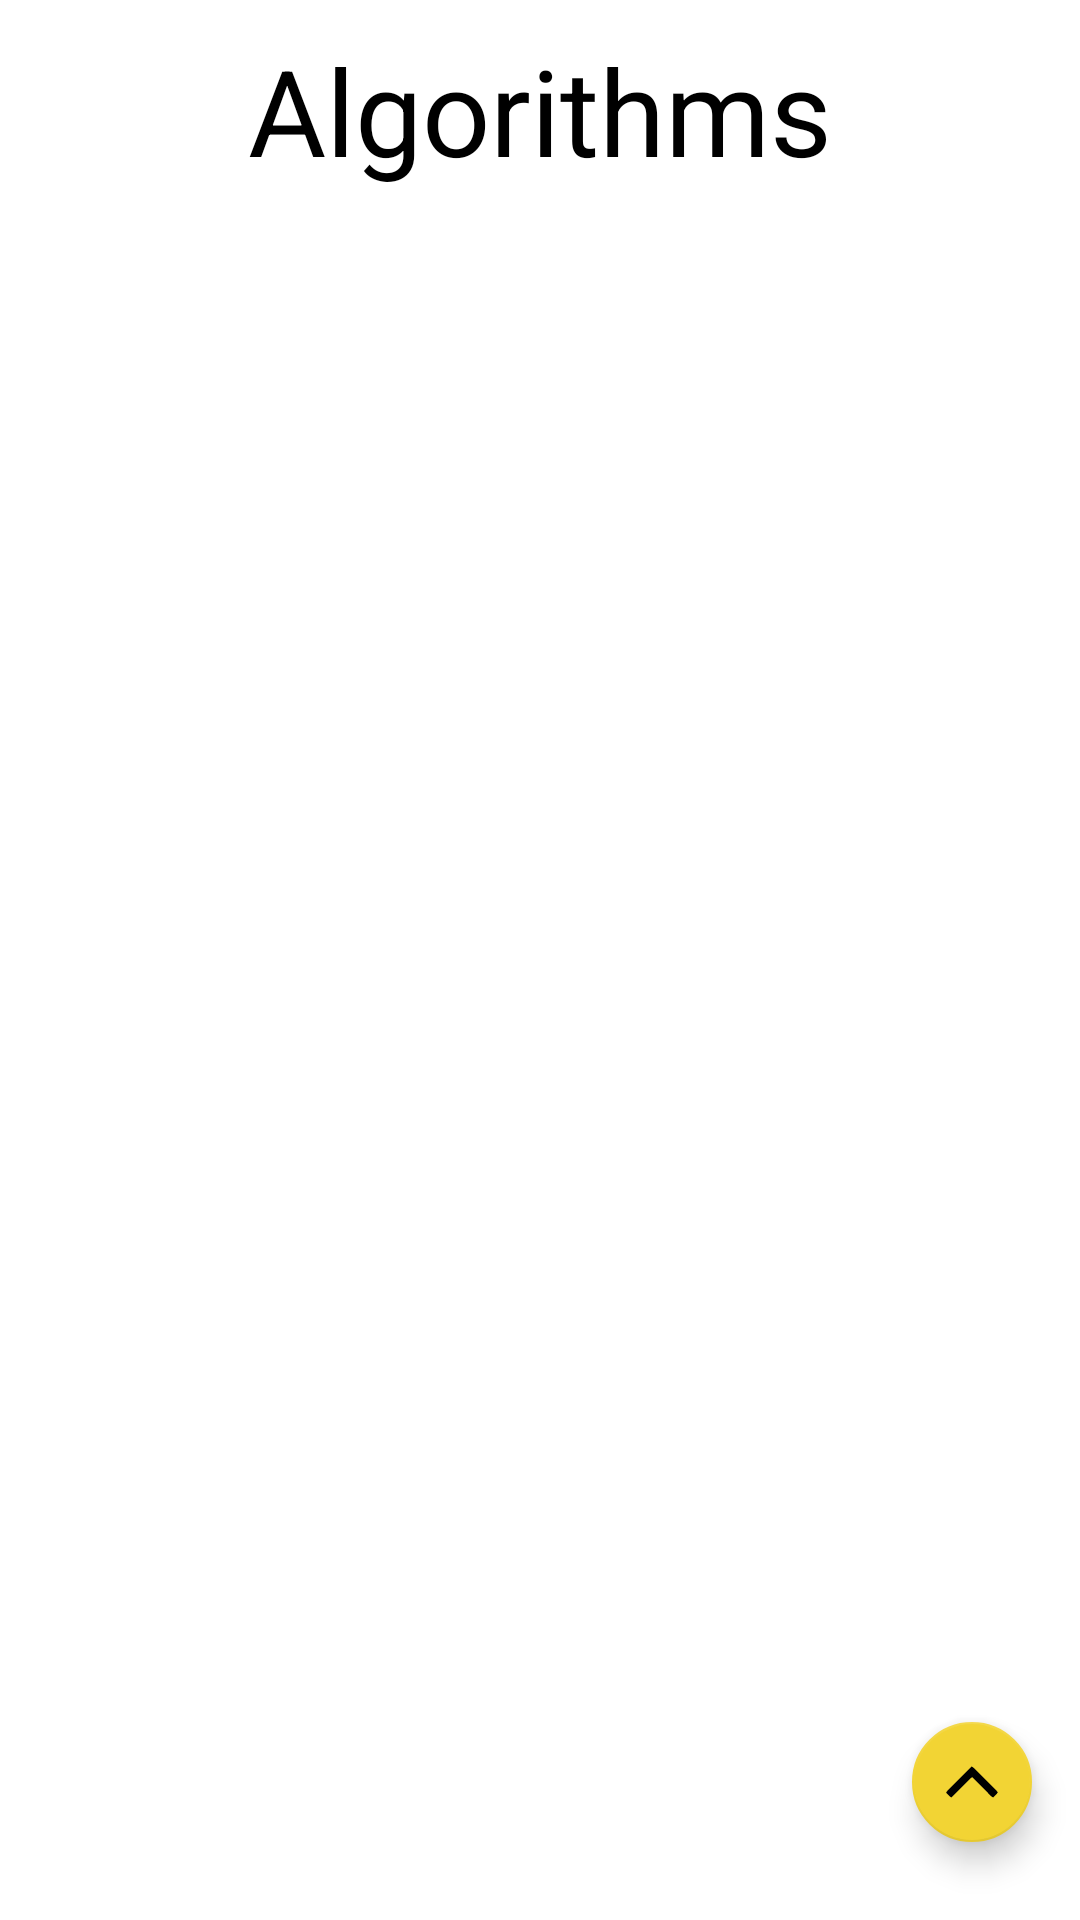

Locate icon controls on the screen. Image size 1080x1920, boxes as (x1, y1, x2, y2).
scrollupicon: (912, 1722, 1035, 1854)
